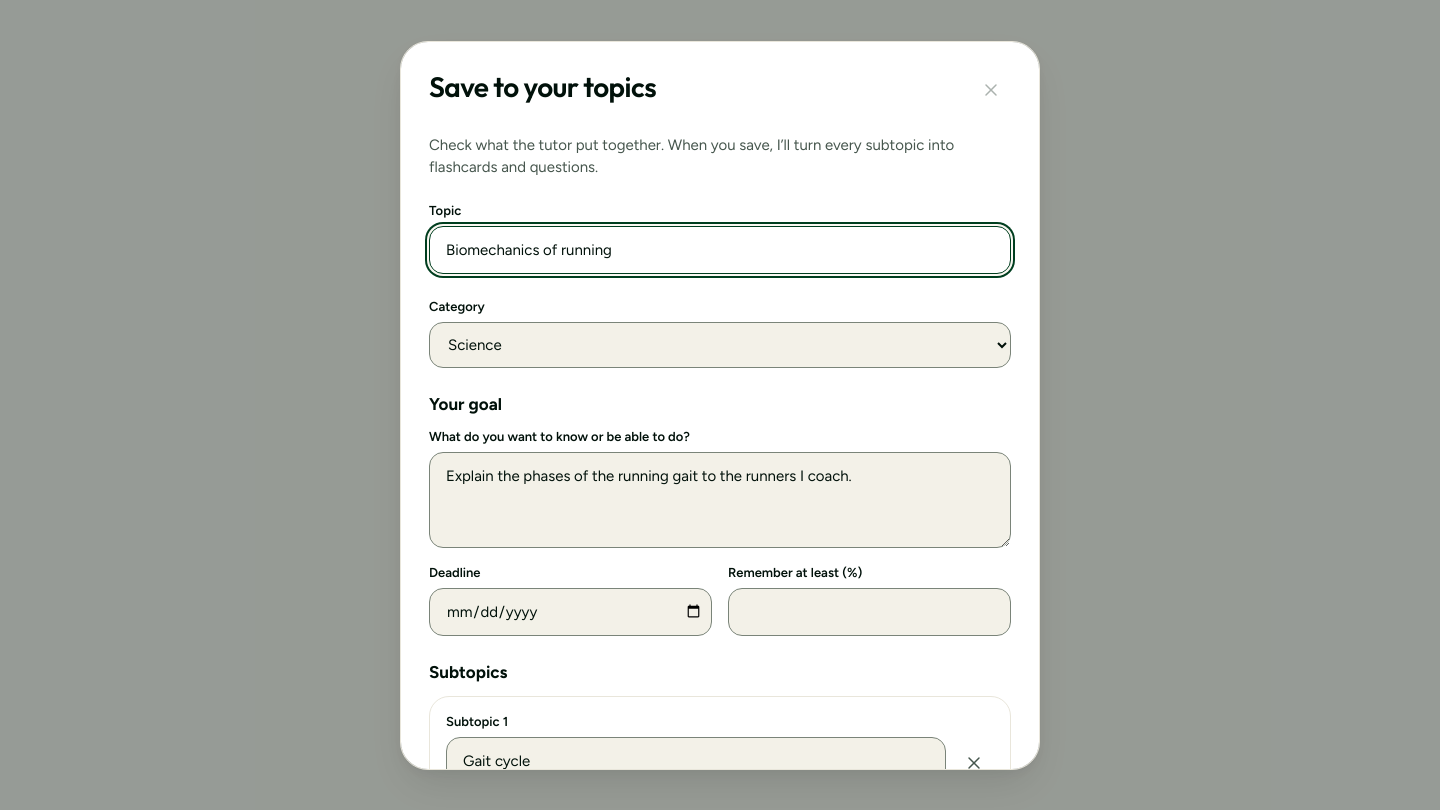
Test: SaveTopicDialog › can’t be closed while it saves
Click the button with test id "dialog-close": (991, 90) [971,70,1011,110]
(page scrolled)
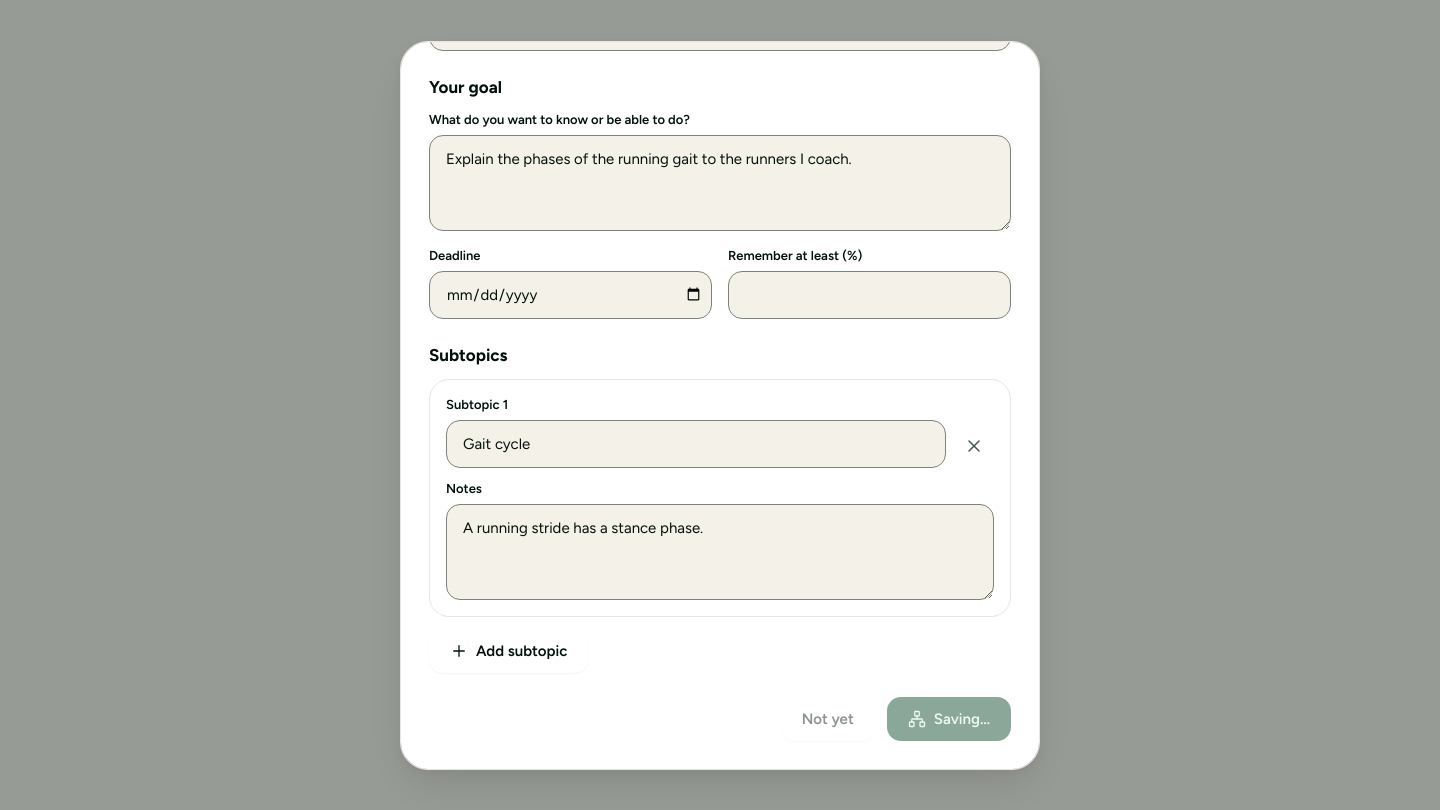
Check: the button with test id "save-topic" reads "Saving…", box [887,696,1011,740]
